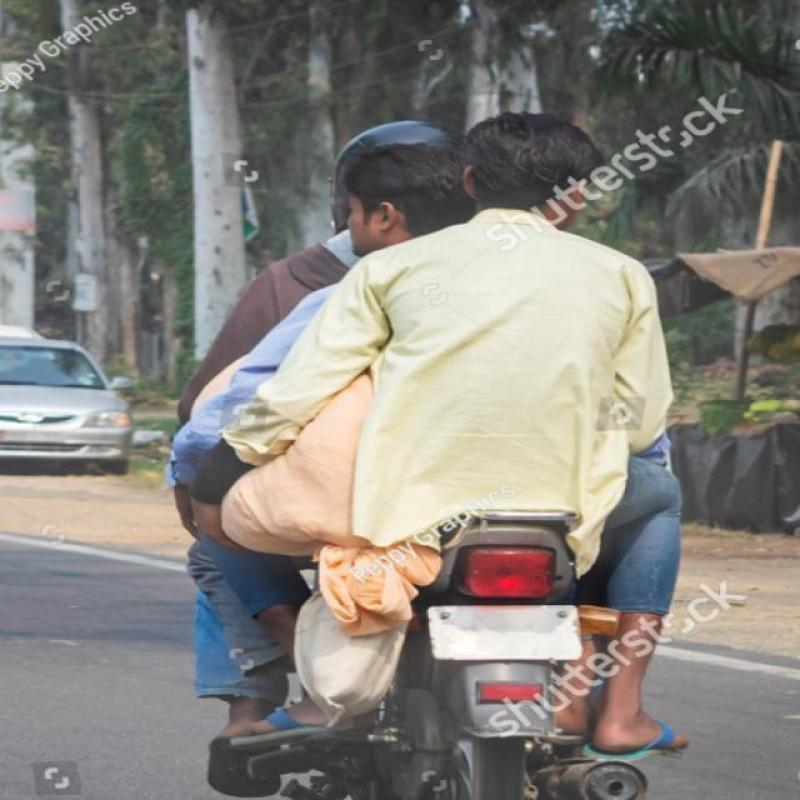nohelmet: (455, 116, 617, 220), (334, 136, 444, 250)
